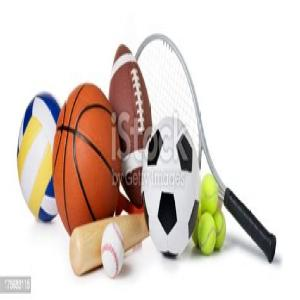Basket: (51, 80, 122, 238)
Football: (142, 114, 200, 258)
Rugby: (109, 43, 153, 207)
Tennis: (200, 170, 217, 218), (198, 212, 216, 256), (212, 210, 226, 251), (192, 204, 202, 246)
Volley: (16, 89, 63, 223)
